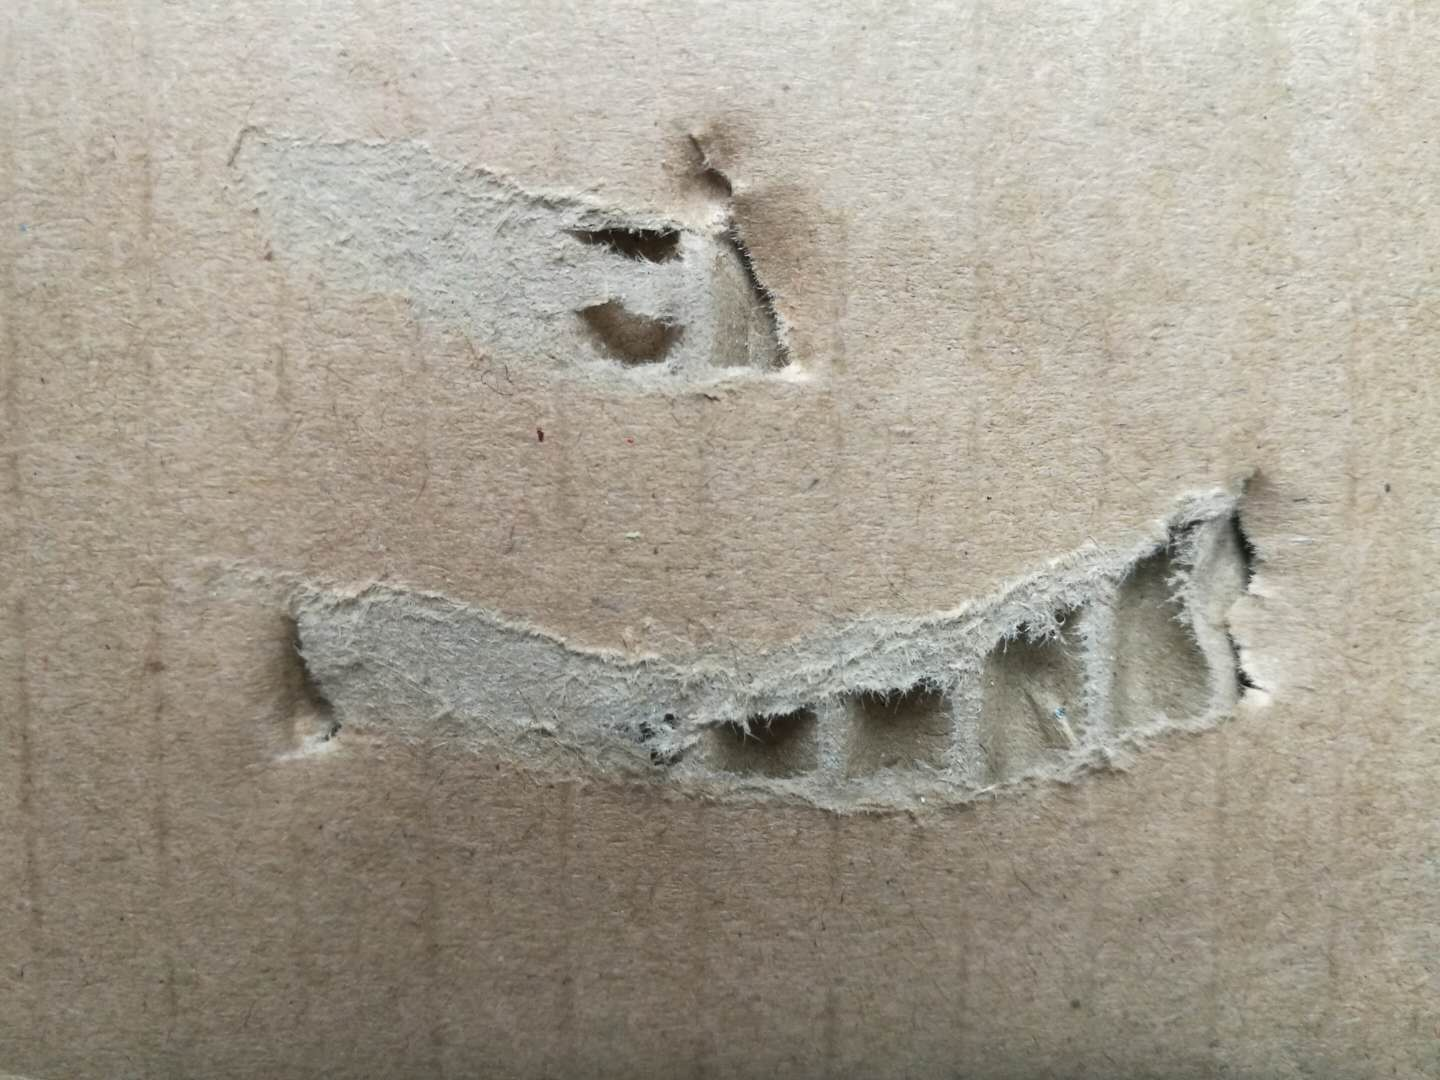defect: (232, 423, 1335, 861), (183, 79, 903, 440)
